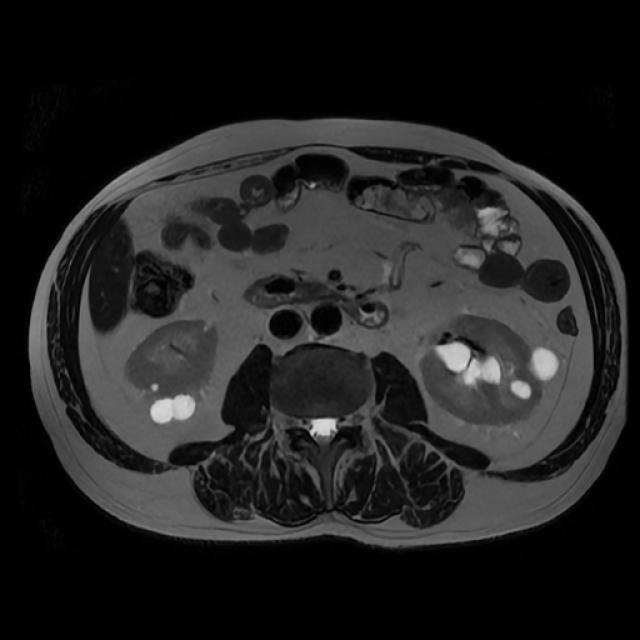sag: (128, 319, 216, 425)
sol: (421, 318, 559, 427)
